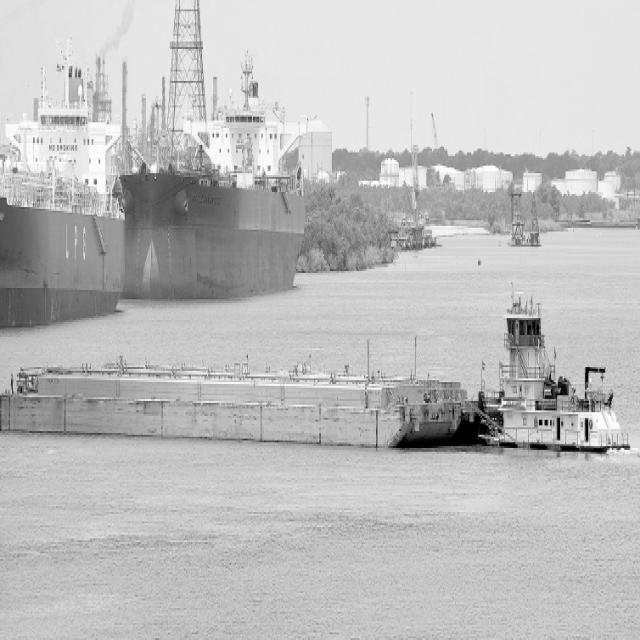tugboat: (472, 285, 634, 470)
